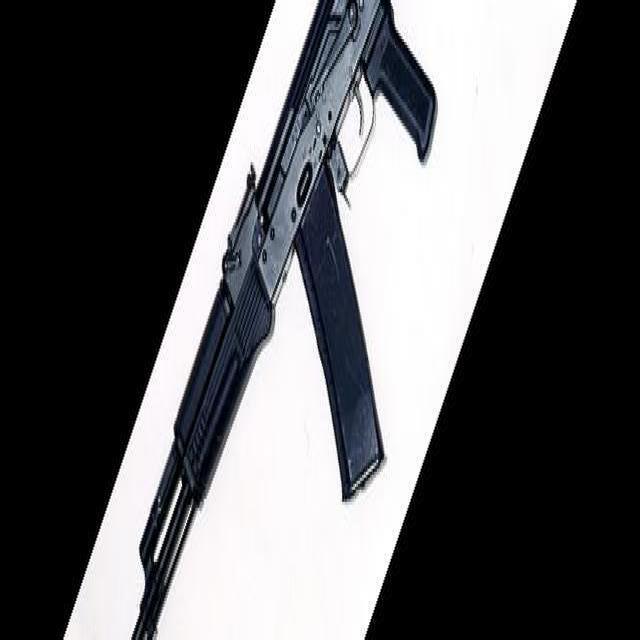weapon: (130, 0, 438, 640)
